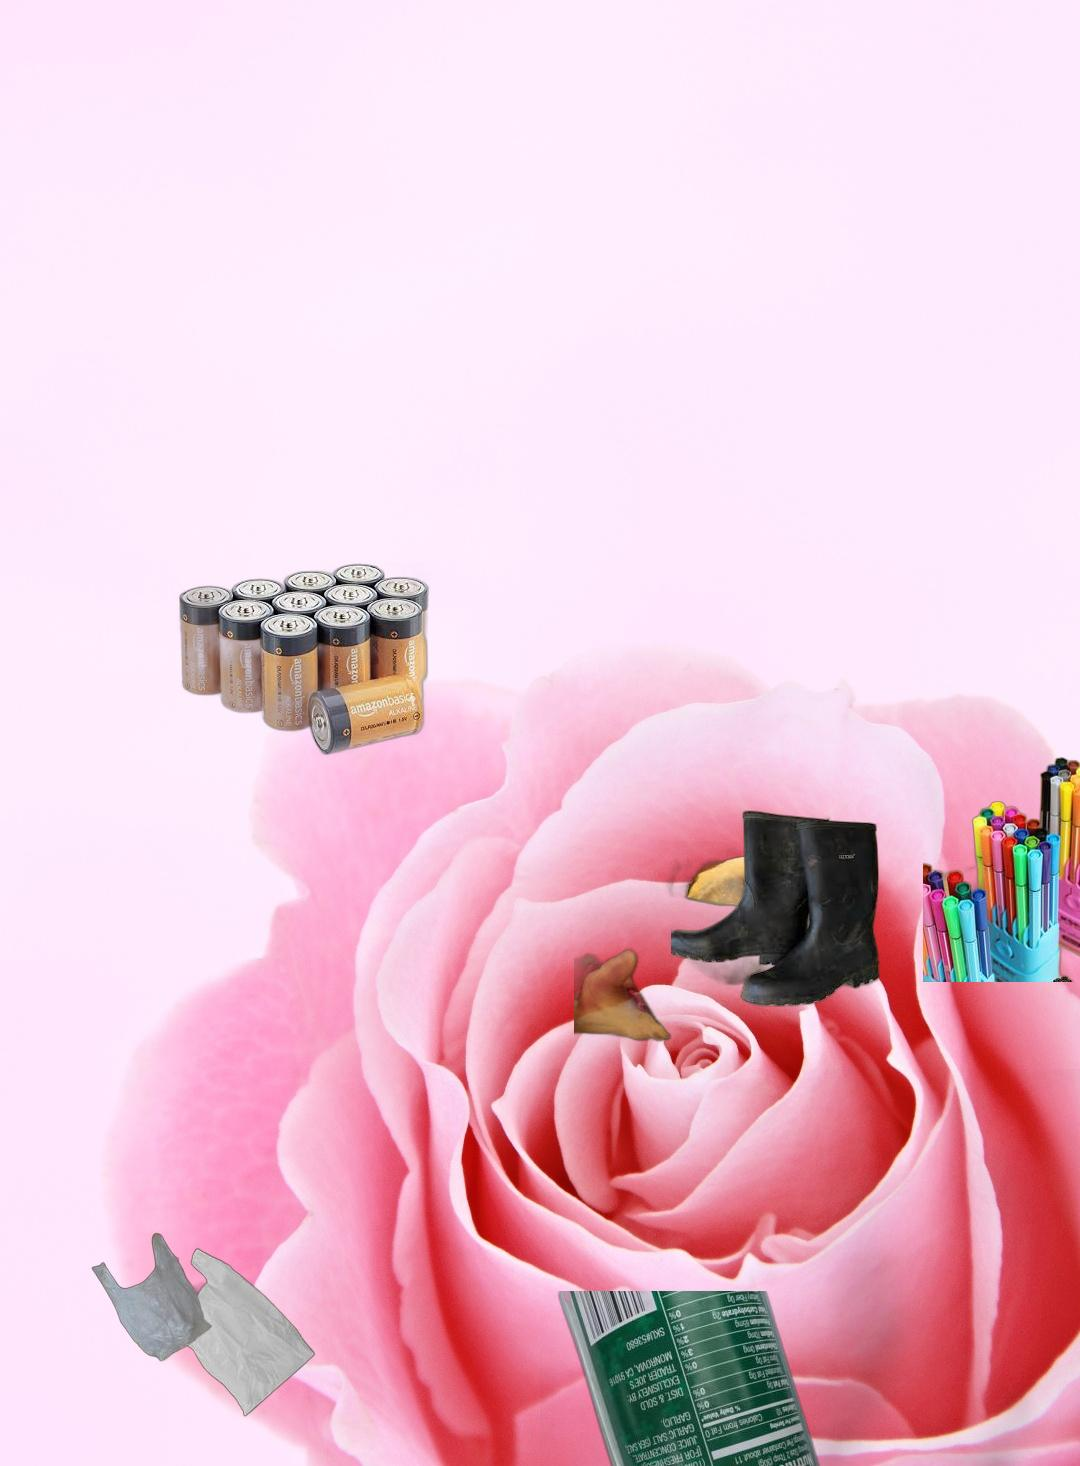battery: (178, 562, 432, 759)
biological: (574, 841, 799, 1066)
glass: (554, 1291, 849, 1466)
penholder: (923, 714, 1080, 982)
plastic-bag: (89, 1230, 318, 1419)
shoes: (671, 808, 882, 1008)
trashbox-cardboard: (539, 1069, 1080, 1466)
